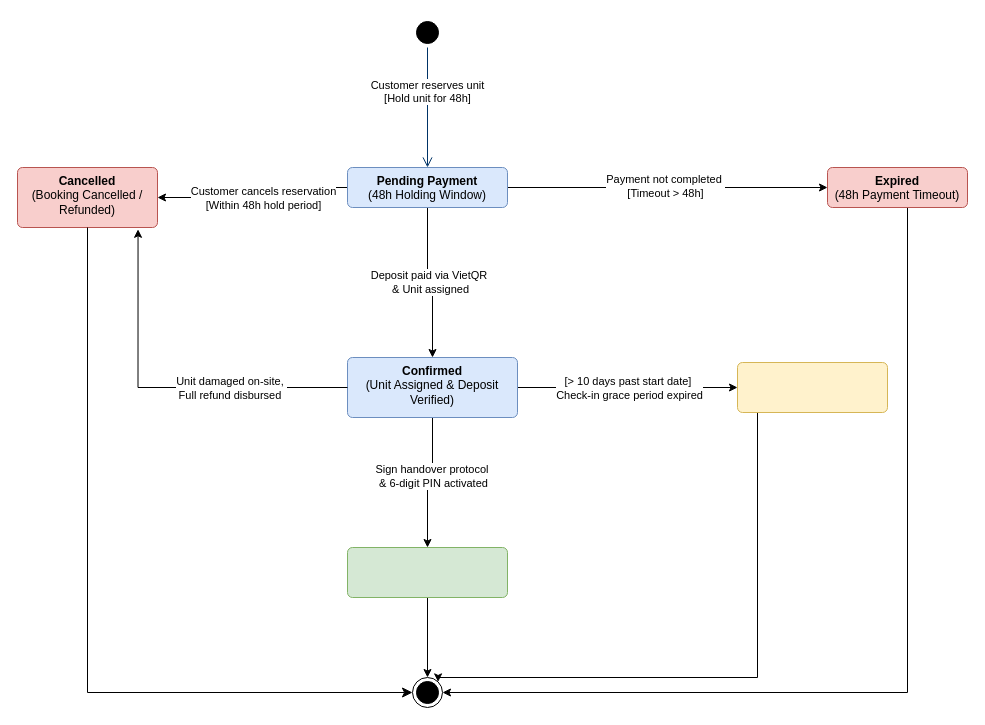
The diagram is 985 pixels wide and 725 high, and some of its shapes have lost their labels. Here are the shapes that lost their labels. From the top down, the centre of each, then its label:
At [812,387]: "No-show (Check-in Defaulted & Slot Released)".
At [427,572]: "Fulfilled (Unit Handed Over & Active)".
